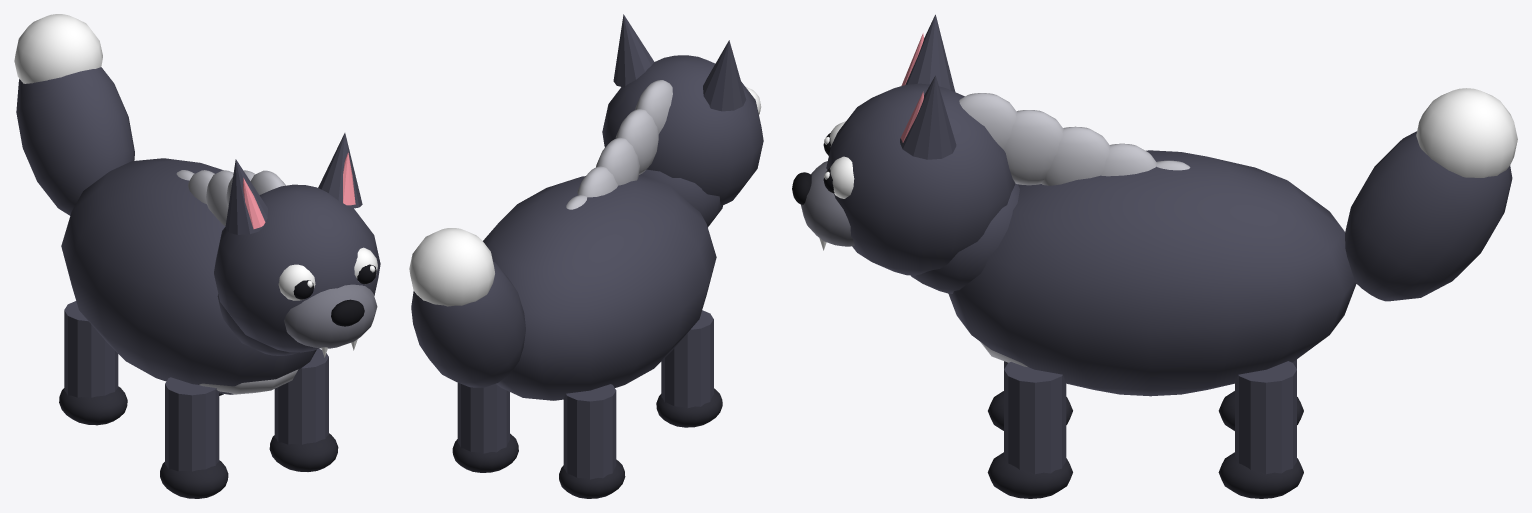
3 renders of one model, left to right at view 1: azimuth 30°, elevation 25°; view 2: azimuth 150°, elevation 25°; view 3: azimuth 270°, elevation 25°, orthographic. The views are drawn at different scales.
Parts seen in each view (by area): view 1: Werewolf; view 2: Werewolf; view 3: Werewolf.
Part boxes in pixels (left/top/right/bottom): Werewolf: left=14, top=14, right=380, bottom=498; Werewolf: left=409, top=14, right=763, bottom=498; Werewolf: left=792, top=14, right=1517, bottom=498.
Bounding box in the file's own units: 1.7 × 2.97 × 4.67.
1 material, 1 textured.
